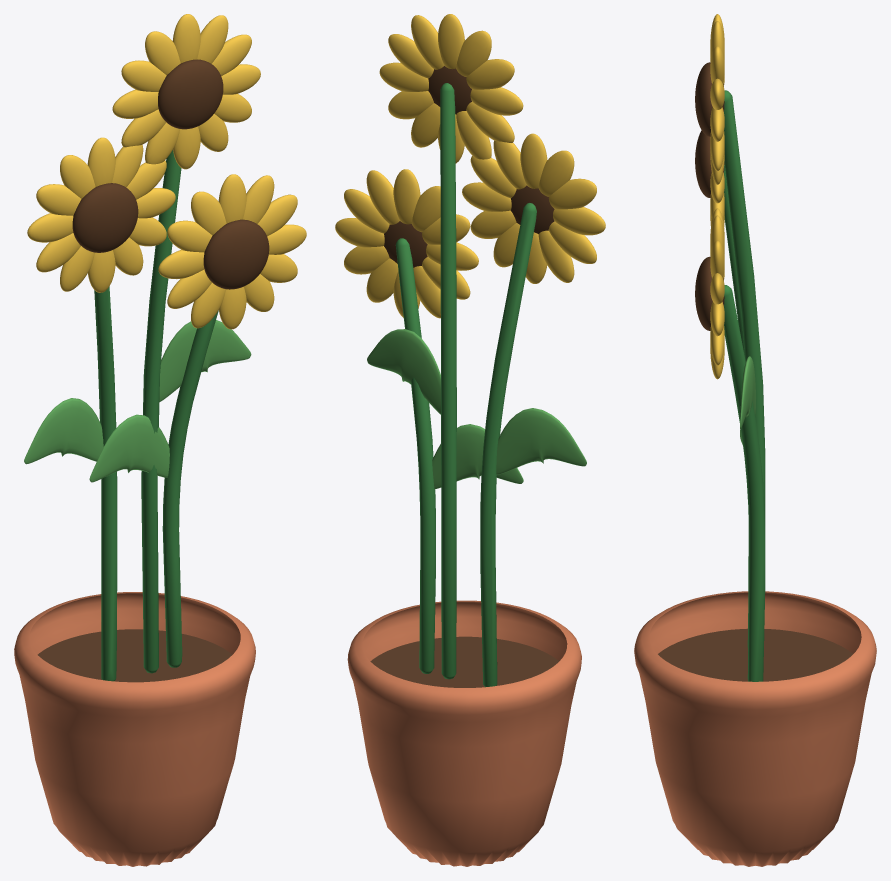
File: deco_girasoles.glb
The picture shows the model from 3 angles, left to right: view 1: azimuth 30°, elevation 25°; view 2: azimuth 150°, elevation 25°; view 3: azimuth 270°, elevation 25°; orthographic projection. The views are drawn at different scales.
Visible parts, largest first — view 1: matera.001, tallo girasol 1.001, tallo girasol 0.001, tallo girasol 2.001, tierra.001, centro girasol 2.001, centro girasol 0.001, centro girasol 1.001, hoja girasol 0.001, hoja girasol 2.001, hoja girasol 1.001, pétalo girasol 25.001 (+35 smaller); view 2: matera.001, tallo girasol 1.001, tallo girasol 0.001, tallo girasol 2.001, tierra.001, hoja girasol 0.001, hoja girasol 1.001, hoja girasol 2.001, centro girasol 0.001, centro girasol 1.001, centro girasol 2.001, pétalo girasol 04.001 (+33 smaller); view 3: matera.001, tierra.001, tallo girasol 2.001, tallo girasol 1.001, centro girasol 1.001, centro girasol 2.001, tallo girasol 0.001, centro girasol 0.001, hoja girasol 1.001.
Part boxes in pixels (x1,y1,x2,y2): matera.001: (14, 592, 255, 866); tallo girasol 1.001: (141, 150, 181, 673); tallo girasol 0.001: (94, 286, 117, 681); tallo girasol 2.001: (162, 310, 218, 667); tierra.001: (37, 629, 232, 682); centro girasol 2.001: (203, 219, 269, 289); centro girasol 0.001: (72, 183, 138, 252); centro girasol 1.001: (158, 59, 223, 129); hoja girasol 0.001: (24, 398, 103, 464); hoja girasol 2.001: (89, 414, 169, 482); hoja girasol 1.001: (159, 320, 251, 402); pétalo girasol 25.001: (167, 220, 212, 252); matera.001: (347, 600, 581, 866); tallo girasol 1.001: (440, 83, 456, 679); tallo girasol 0.001: (480, 203, 536, 687); tallo girasol 2.001: (395, 238, 435, 673); tierra.001: (370, 636, 558, 687); hoja girasol 0.001: (496, 408, 586, 474); hoja girasol 1.001: (367, 329, 440, 414); hoja girasol 2.001: (432, 424, 523, 488); centro girasol 0.001: (511, 185, 554, 233); centro girasol 1.001: (428, 66, 471, 114); centro girasol 2.001: (384, 221, 427, 267); pétalo girasol 04.001: (538, 150, 574, 196); matera.001: (634, 591, 876, 866); tierra.001: (658, 628, 852, 681); tallo girasol 2.001: (724, 285, 765, 681); tallo girasol 1.001: (724, 90, 765, 678); centro girasol 1.001: (695, 62, 724, 136); centro girasol 2.001: (695, 256, 724, 330); tallo girasol 0.001: (724, 165, 748, 647); centro girasol 0.001: (695, 130, 724, 197); hoja girasol 1.001: (740, 356, 755, 429).
Size of the model in its own units: 0.4262 by 1.22 by 0.3199.
